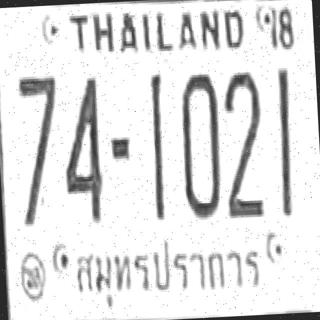N00: (178, 72, 222, 218)
N01: (274, 68, 295, 216), (148, 74, 166, 221)
N02: (221, 68, 266, 220)
N04: (60, 74, 105, 223)
N07: (16, 73, 63, 227), (17, 73, 62, 213)
P57: (68, 227, 266, 316)
